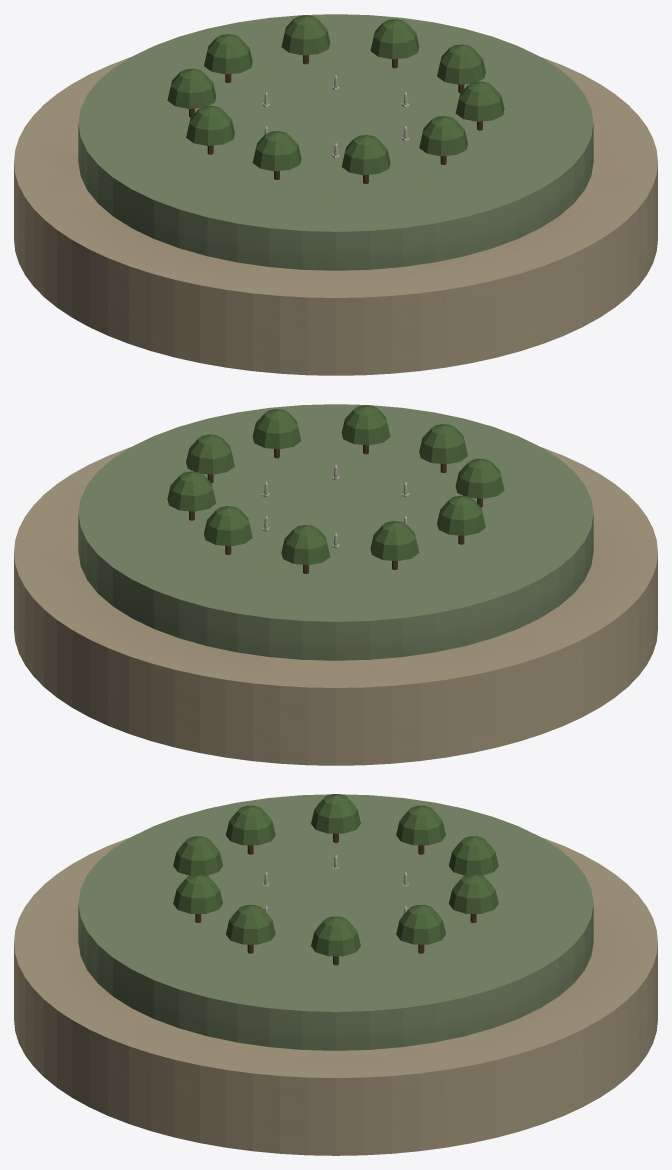
The model's file is mausoleum-of-augustus-ruin.glb.
3 views of the same model, one above another, from view 1: azimuth 30°, elevation 25°; view 2: azimuth 150°, elevation 25°; view 3: azimuth 270°, elevation 25° (orthographic).
Visible parts, largest first — view 1: p1_garden, p0_drum, p2_trees; view 2: p1_garden, p0_drum, p2_trees; view 3: p1_garden, p0_drum, p2_trees.
Boxes of the visible parts, <box> form: p1_garden: <box>78,14,593,270</box>; p0_drum: <box>14,57,657,375</box>; p2_trees: <box>167,15,504,183</box>; p1_garden: <box>78,404,593,660</box>; p0_drum: <box>14,447,657,765</box>; p2_trees: <box>167,405,504,573</box>; p1_garden: <box>78,794,593,1050</box>; p0_drum: <box>14,837,657,1155</box>; p2_trees: <box>173,794,498,965</box>.
Size of the model in its own units: 90 by 25.18 by 90.
